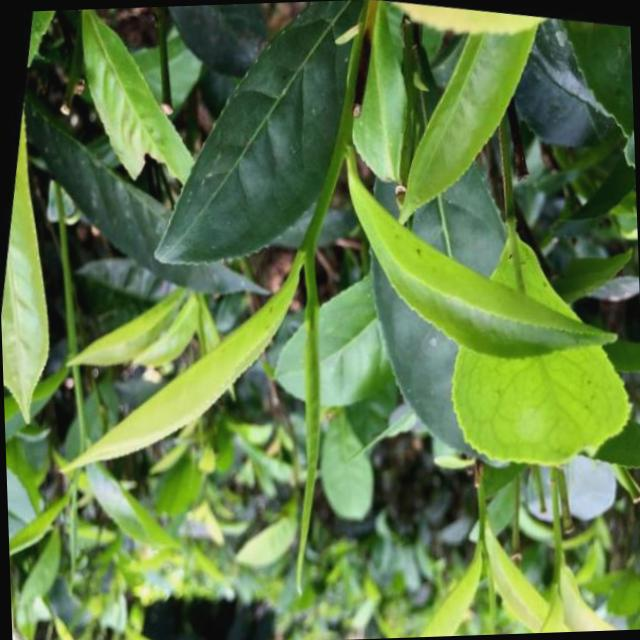Stem: (295, 237, 314, 257), (554, 546, 562, 556), (79, 429, 86, 439), (477, 530, 484, 539)
